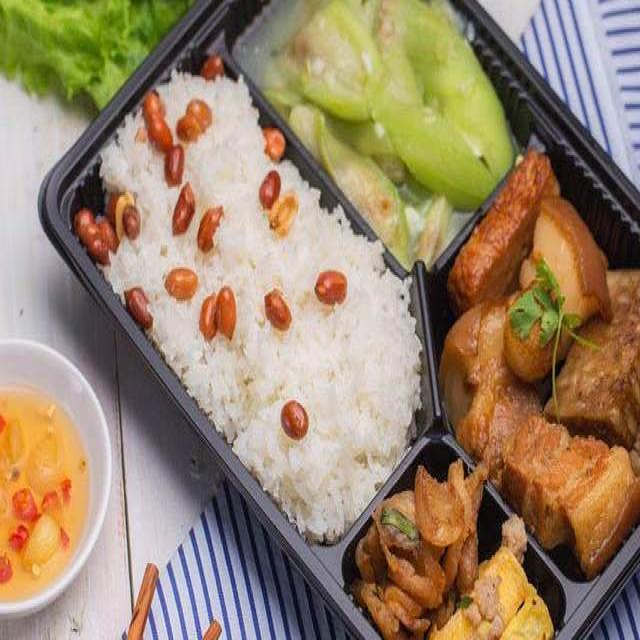com: (74, 56, 420, 541)
dau hu: (429, 520, 553, 638)
kho trung: (440, 150, 639, 576)
nuoc mam: (0, 381, 97, 603)
rau: (254, 0, 515, 266)
